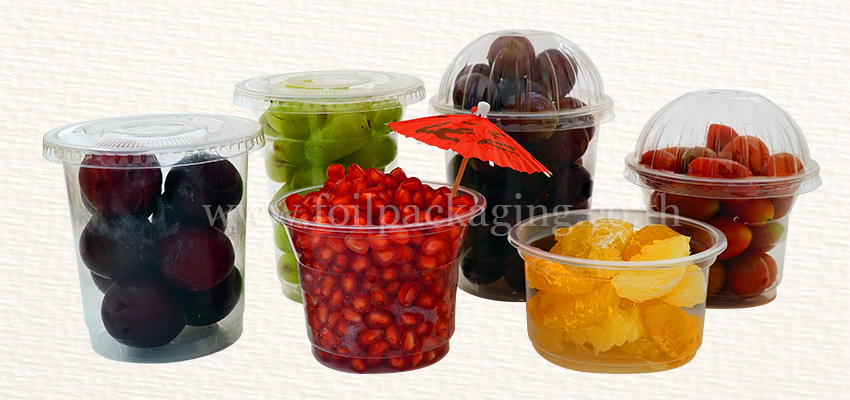plastic_bottle: (38, 106, 267, 372)
